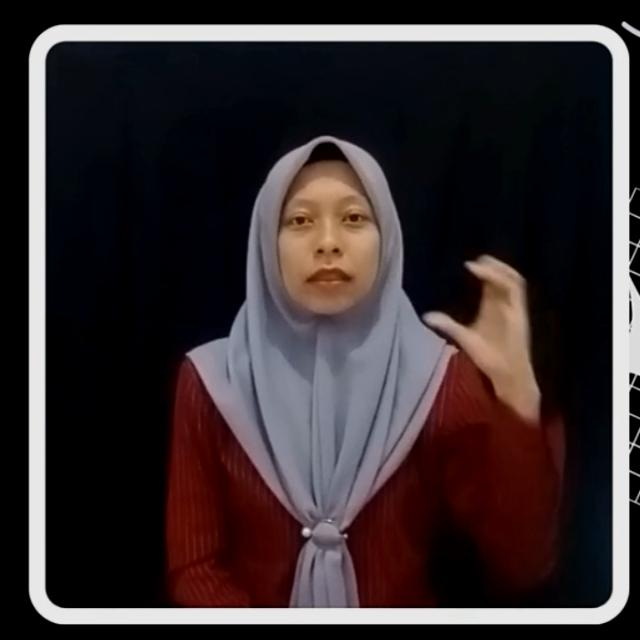C: (422, 252, 540, 384)
